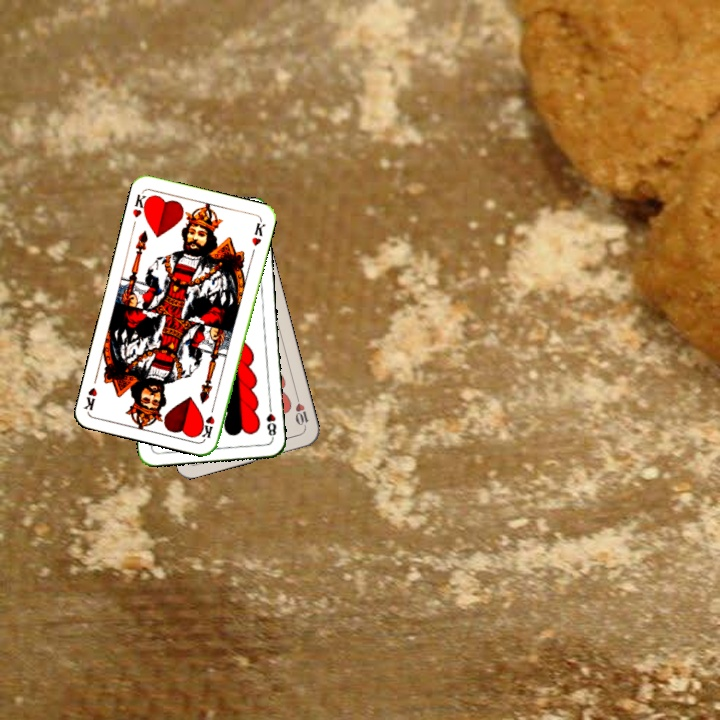H10: (291, 392, 311, 432)
H8: (262, 401, 279, 441)
HK: (197, 401, 217, 441), (129, 190, 152, 220)
